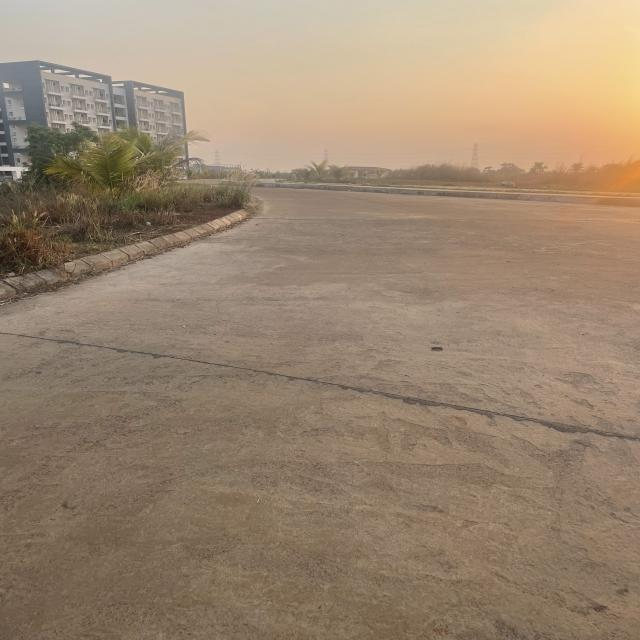D43: (28, 307, 616, 470)
